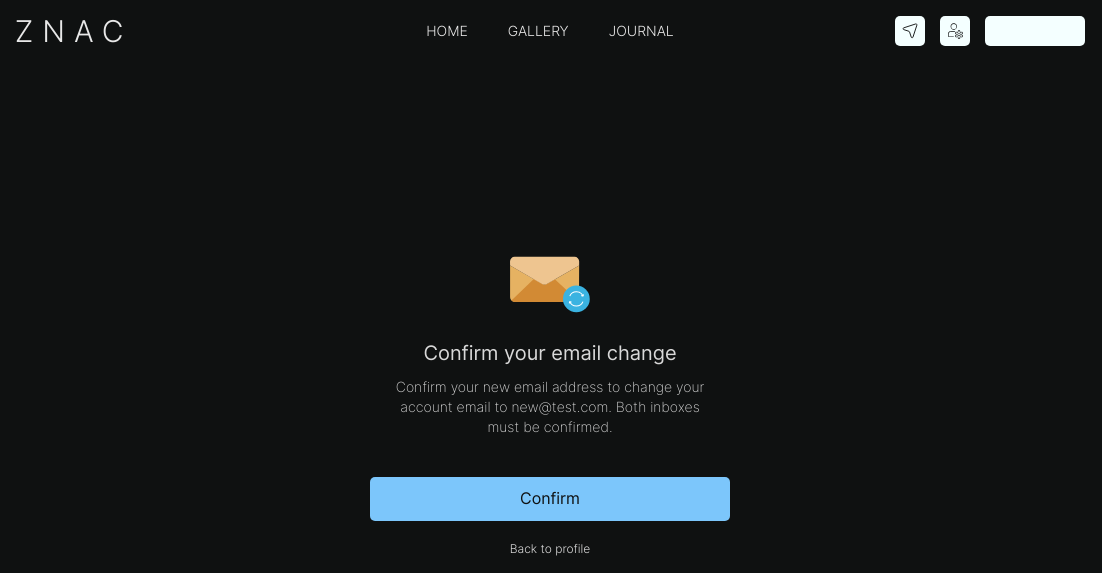
Scenario: a fresh browser checks the link without local storage or automatic confirmation
Check: the heading "Confirm your email change" is shown, box [423, 340, 677, 364]
Check: the text "new@test.com" is shown, box [512, 398, 608, 414]
Click the button "Confirm": (550, 498) [370, 476, 730, 520]
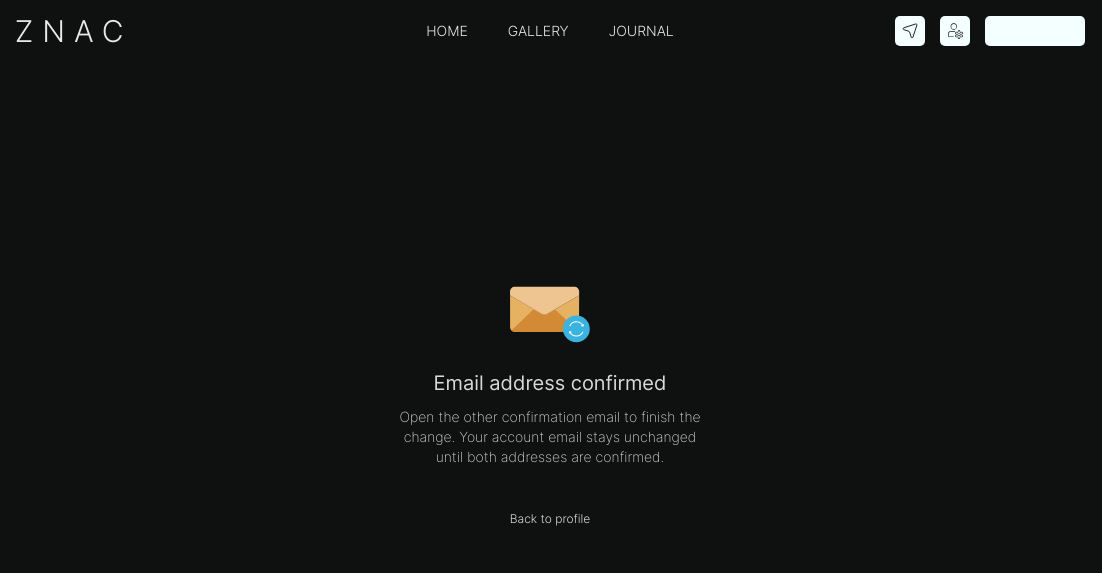
Check: the heading "Email address confirmed" is shown, box [434, 370, 666, 394]
Check: the text "Open the other confirmation email" is shown, box [400, 408, 701, 464]
